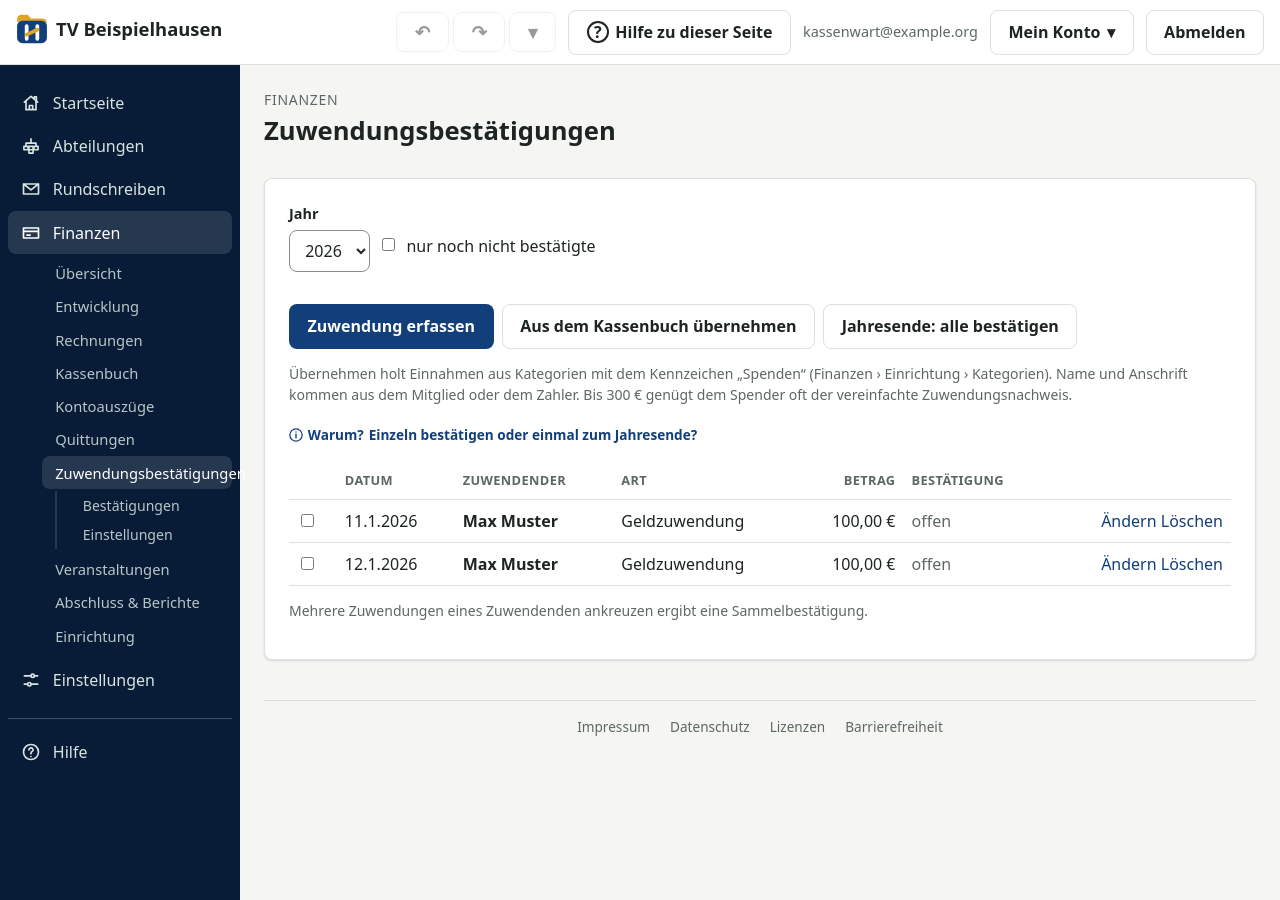
Test case: Zuwendungsbestätigungen › zwei Zuwendungen ankreuzen ergibt eine Sammelbestätigung
Click the checkbox named "Max Muster 11.1.2026 auswählen" at x=308, y=521, box [301,514,314,527]
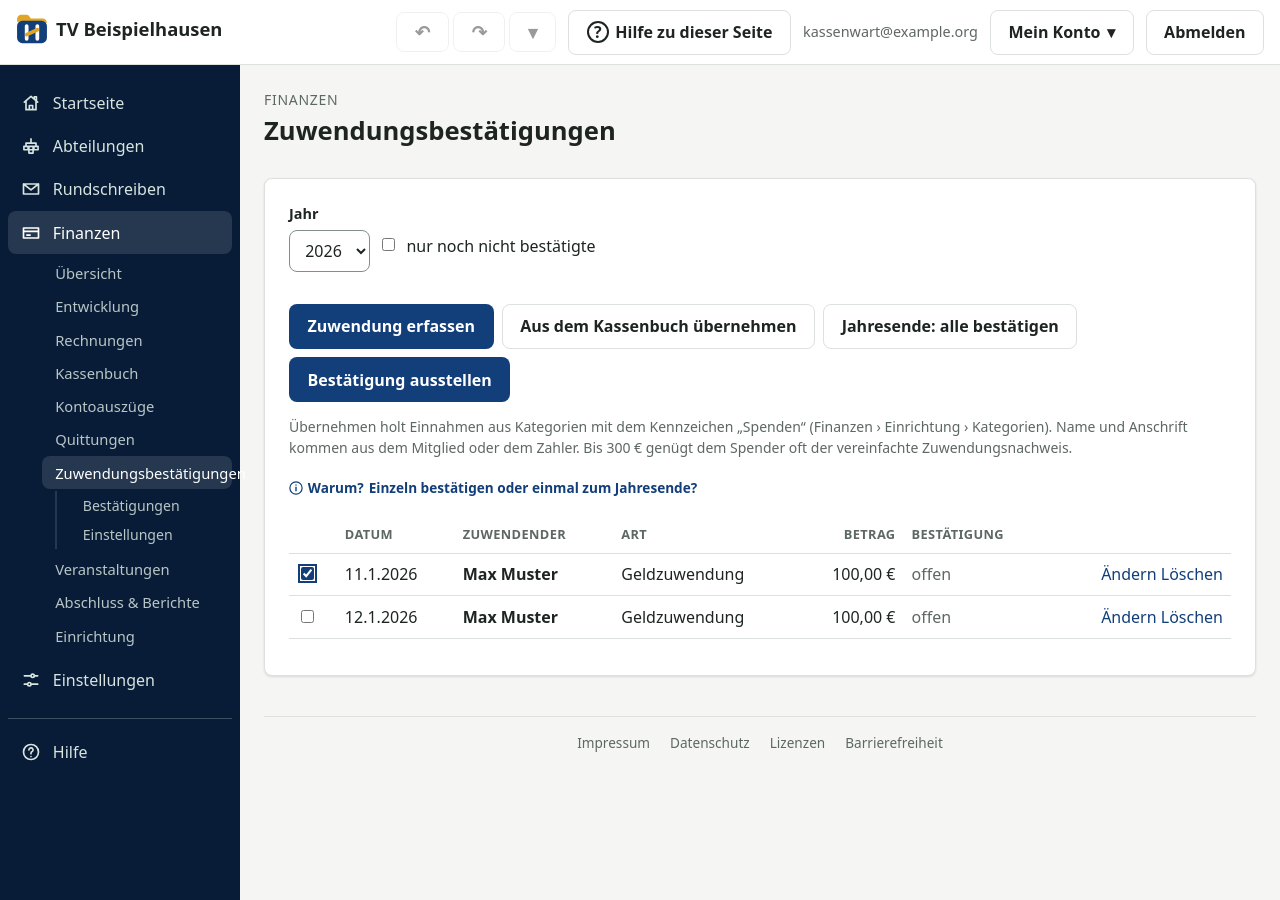
Click the checkbox named "Max Muster 12.1.2026 auswählen" at x=308, y=616, box [301,610,314,623]
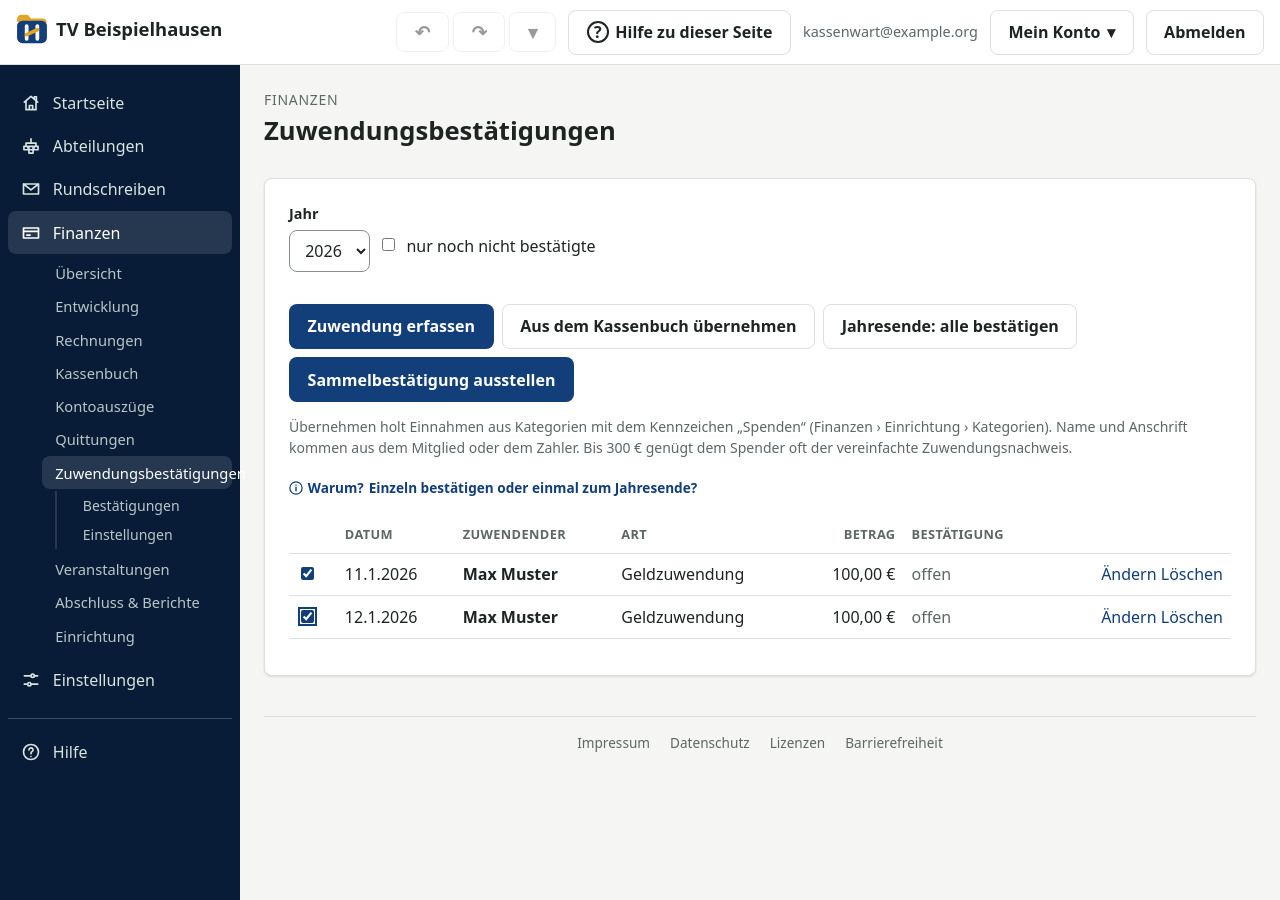
Click the button "Sammelbestätigung ausstellen" at x=432, y=380, box [289,357,574,402]
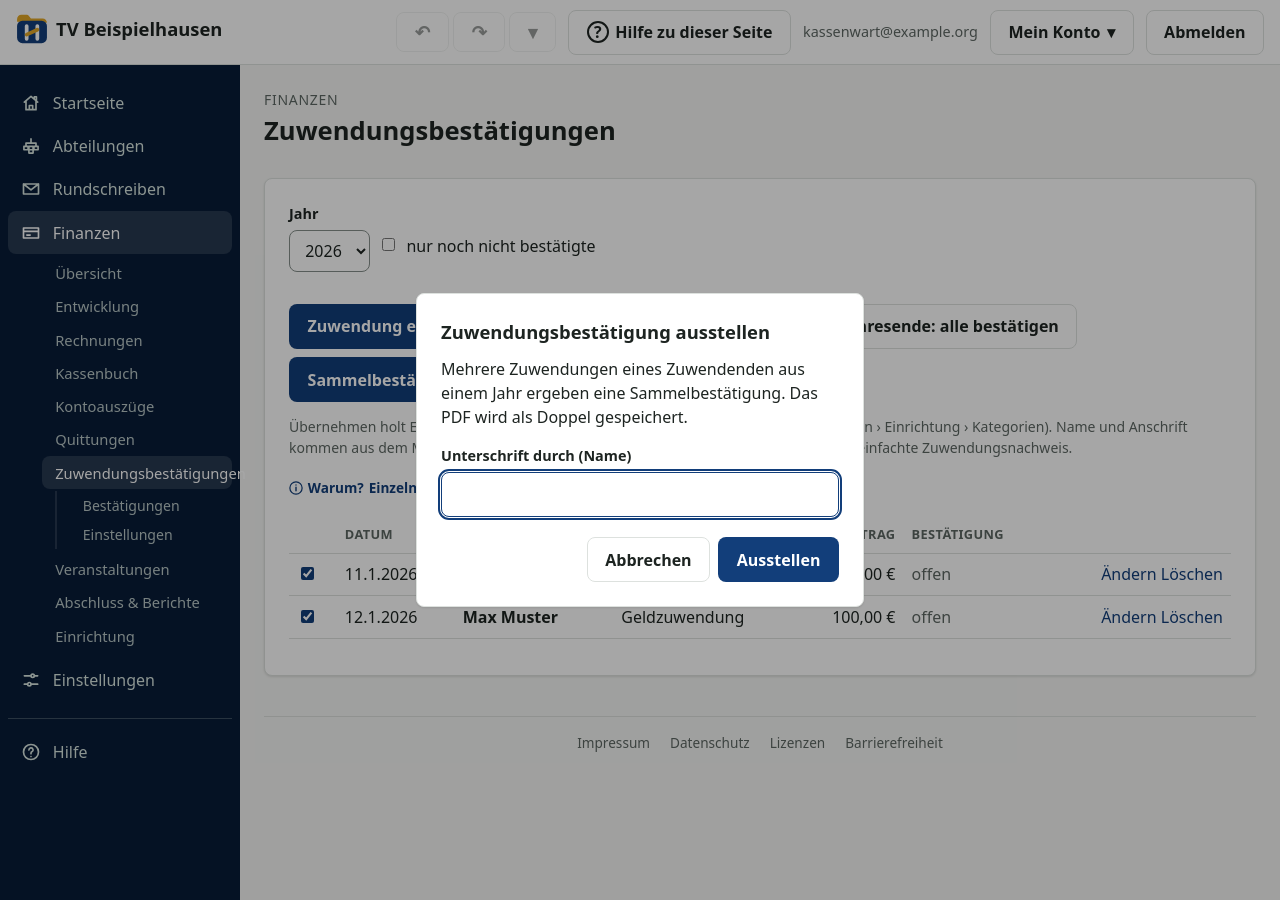
Type "Erika Kasse" into the field labelled "Unterschrift durch (Name)" at x=640, y=494, box [441,472,839,517]
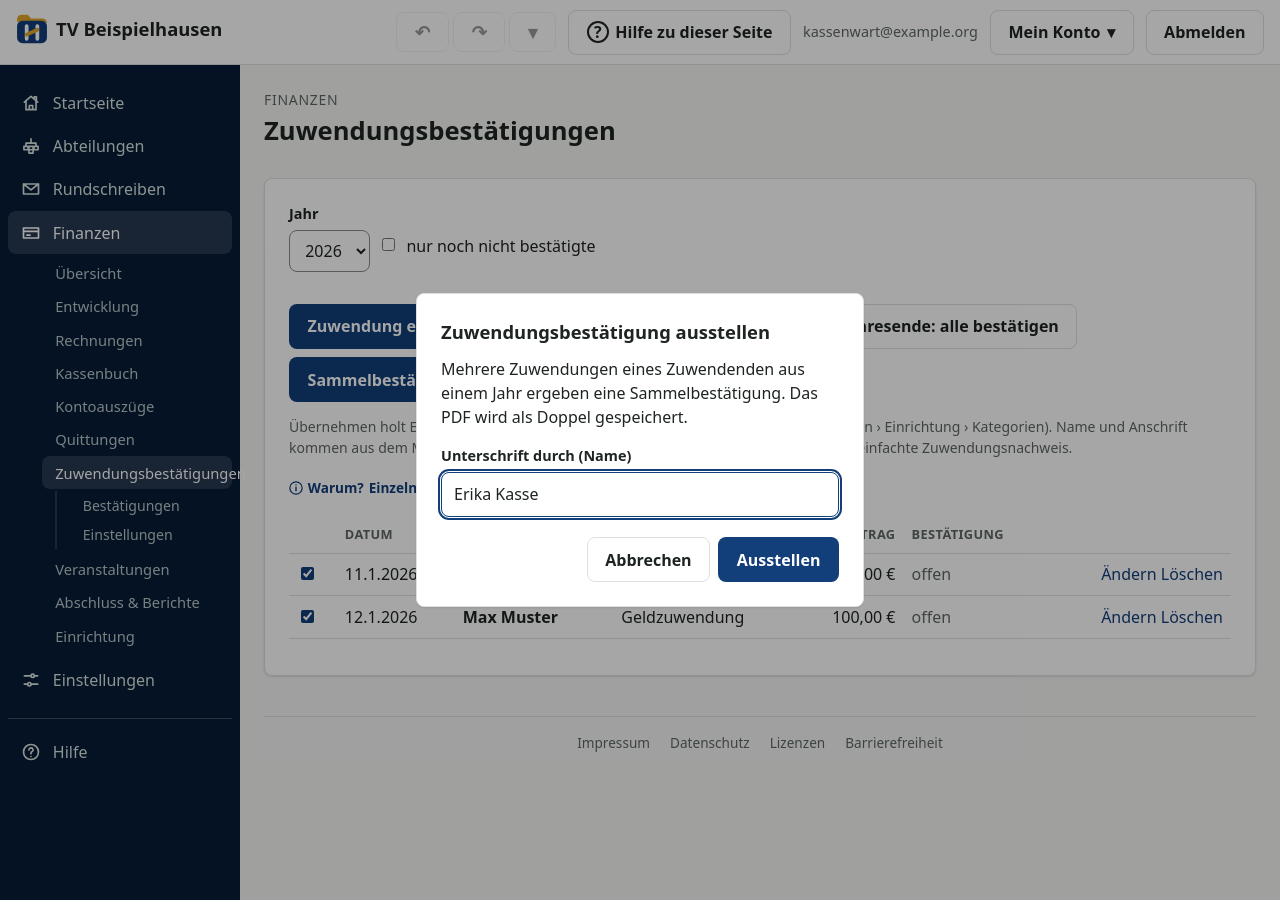
Click the button "Ausstellen" at x=779, y=560, box [718,537,839,582]
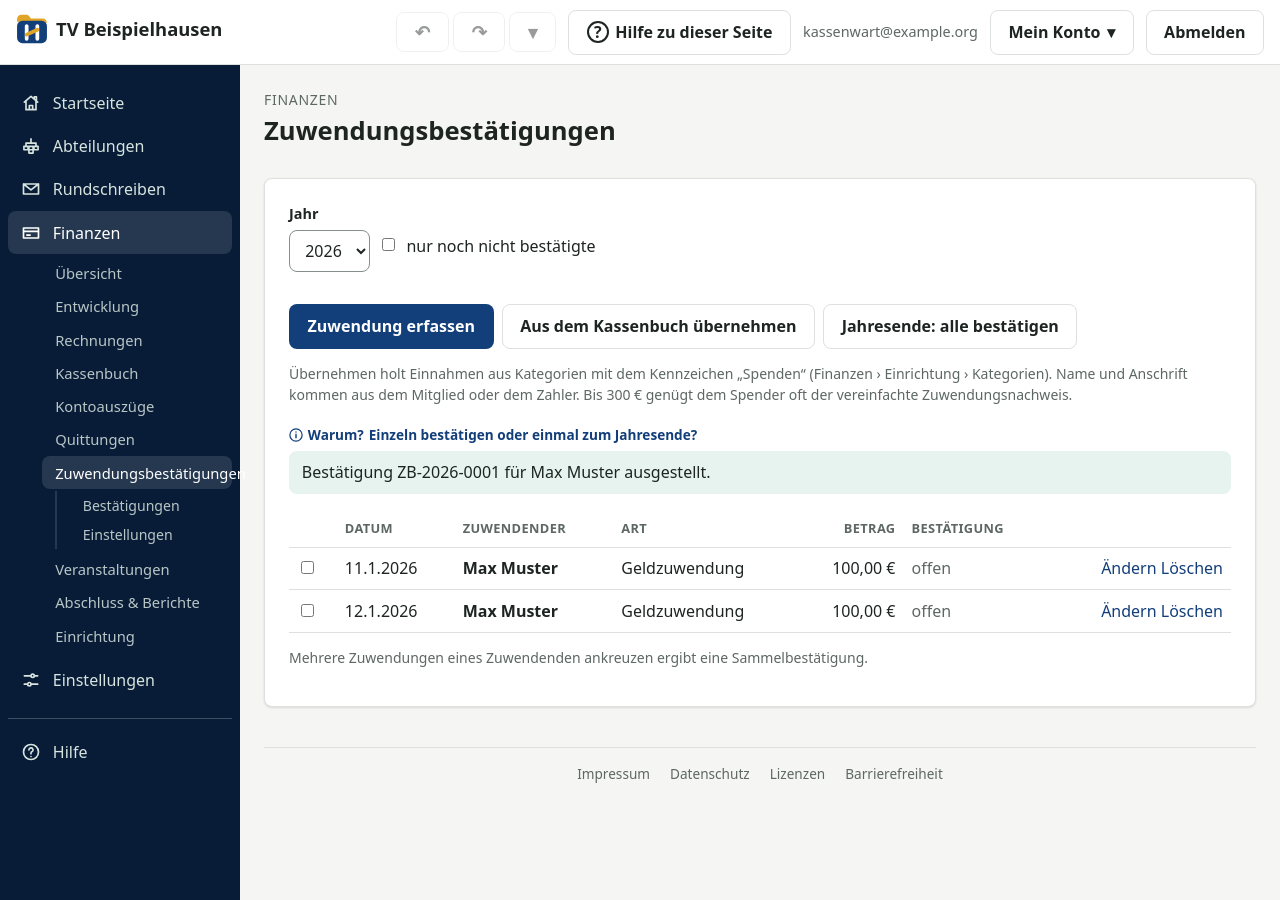
Result: the text "Bestätigung ZB-2026-0001 für Max Muster ausgestellt." is shown at [289,450,1231,494]
